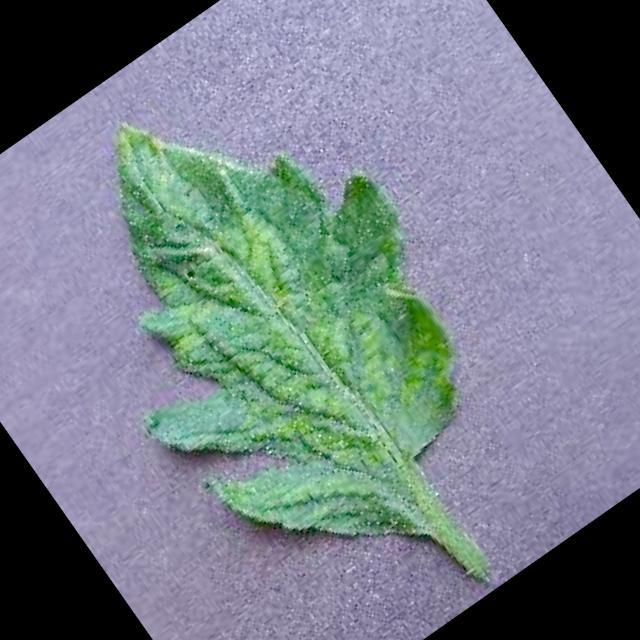Tomato mosaic virus leaf: (0, 16, 552, 618)
